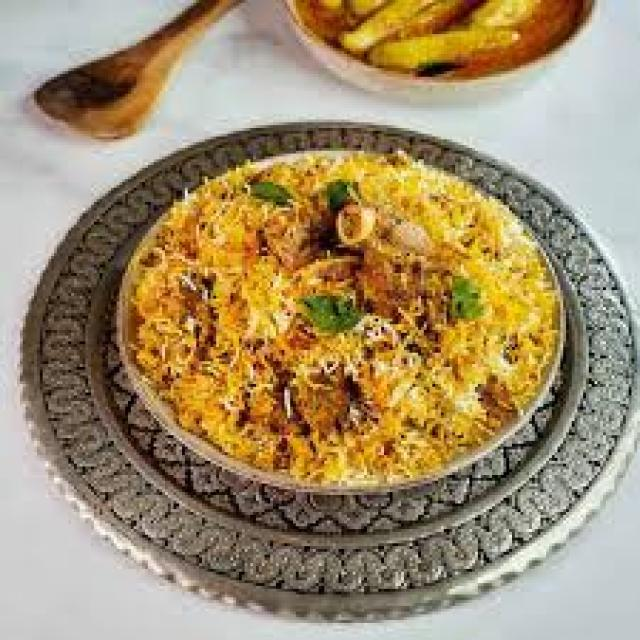chicken biryani: (181, 206, 540, 468)
